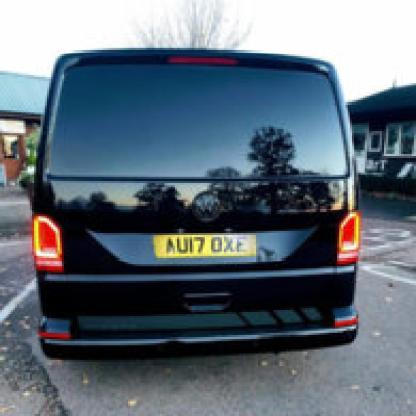number plate: (155, 234, 255, 257)
van back: (21, 49, 362, 357)
